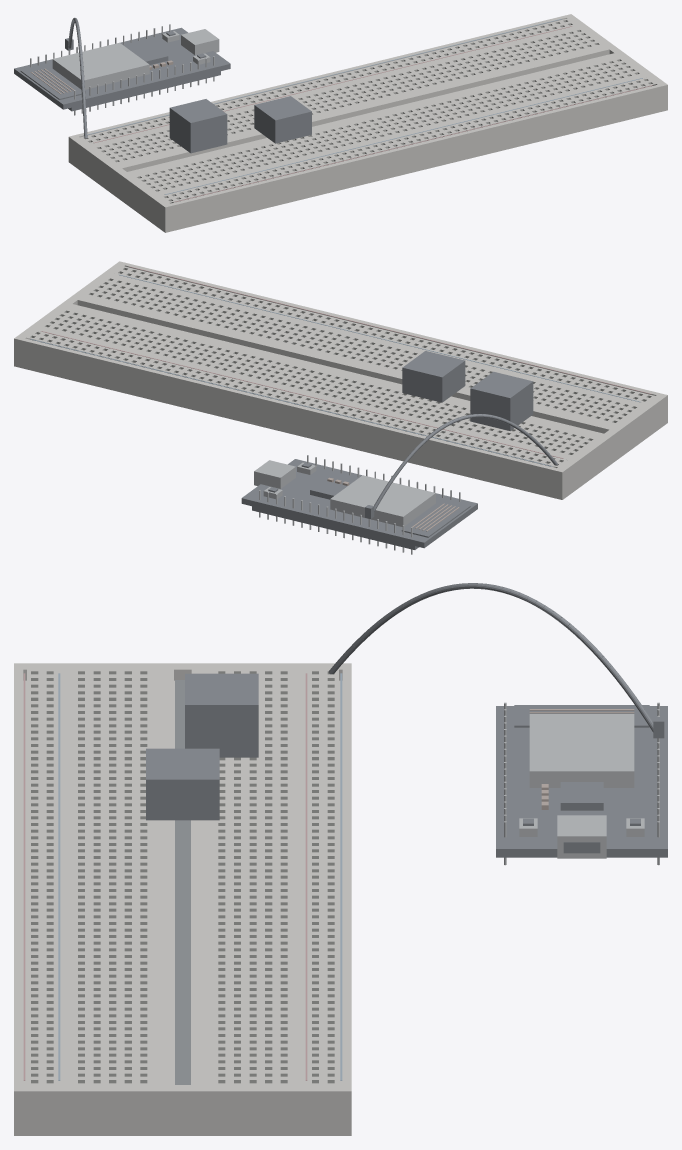
The model's file is step-5.glb.
3 views of the same model, one above another, from view 1: azimuth 30°, elevation 25°; view 2: azimuth 150°, elevation 25°; view 3: azimuth 270°, elevation 25° (orthographic). The views are drawn at different scales.
Parts seen in each view (by area): view 1: breadboard__mesh, uno__mesh, piezo__mesh, button__mesh, ground_supply__mesh; view 2: breadboard__mesh, uno__mesh, piezo__mesh, button__mesh, ground_supply__mesh; view 3: breadboard__mesh, uno__mesh, piezo__mesh, button__mesh, ground_supply__mesh.
Boxes of the visible parts, bbox=[...] form: breadboard__mesh: bbox=[68, 14, 667, 232]; uno__mesh: bbox=[14, 24, 230, 115]; piezo__mesh: bbox=[169, 99, 227, 153]; button__mesh: bbox=[254, 96, 311, 143]; ground_supply__mesh: bbox=[65, 17, 87, 138]; breadboard__mesh: bbox=[14, 261, 667, 499]; uno__mesh: bbox=[241, 455, 477, 554]; piezo__mesh: bbox=[470, 371, 533, 430]; button__mesh: bbox=[402, 351, 465, 402]; ground_supply__mesh: bbox=[365, 414, 557, 518]; breadboard__mesh: bbox=[14, 663, 351, 1135]; uno__mesh: bbox=[496, 702, 667, 865]; piezo__mesh: bbox=[185, 673, 258, 757]; button__mesh: bbox=[146, 748, 219, 820]; ground_supply__mesh: bbox=[328, 583, 664, 738].
Size of the model in its own units: 0.165 by 0.0297 by 0.1065.
